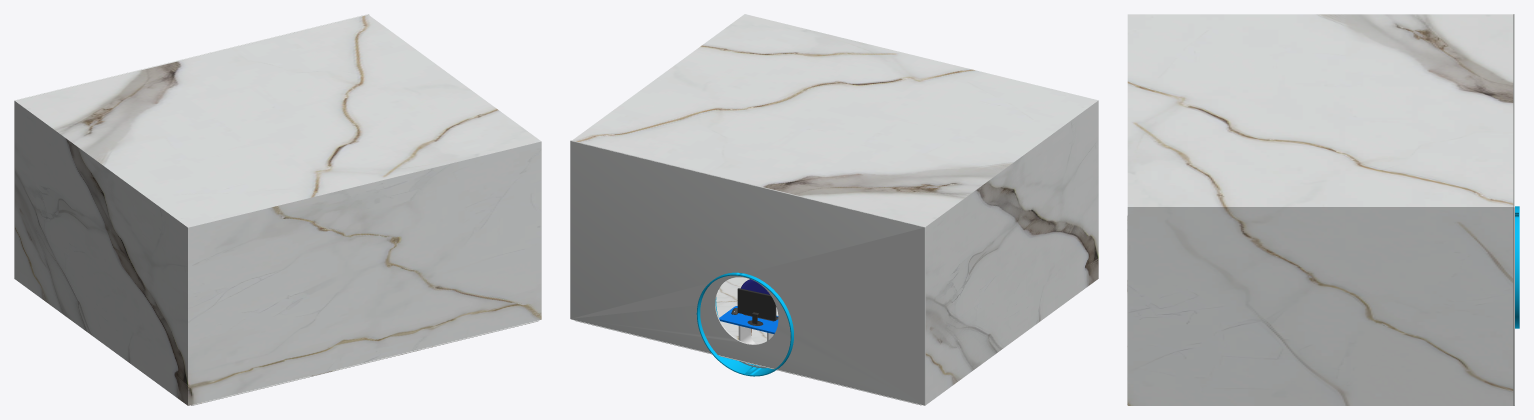
The model's file is room-space-optimized.glb.
3 views of the same model, side by side, from view 1: azimuth 30°, elevation 25°; view 2: azimuth 150°, elevation 25°; view 3: azimuth 270°, elevation 25° (orthographic). The views are drawn at different scales.
Visible parts, largest first — view 1: Cube.002, Boolean, Cube.001; view 2: Cube.002, Boolean, Cube.001, Cylinder.001, Cube.004, Rectangle; view 3: Cube.002, Boolean, Cylinder.001.
Part boxes in pixels (x1,y1,x2,y2): Cube.002: (15, 15, 541, 405); Boolean: (14, 14, 369, 278); Cube.001: (191, 320, 538, 405); Cube.002: (571, 14, 1098, 405); Boolean: (570, 140, 925, 405); Cube.001: (575, 277, 921, 405); Cylinder.001: (696, 272, 793, 376); Cube.004: (737, 288, 776, 320); Rectangle: (719, 306, 778, 333); Cube.002: (1127, 14, 1513, 405); Boolean: (1513, 14, 1514, 405); Cylinder.001: (1515, 206, 1519, 328).
Size of the model in its own units: 58.84 by 30.13 by 50.54.
Materials: 30 (1 with a texture image).
